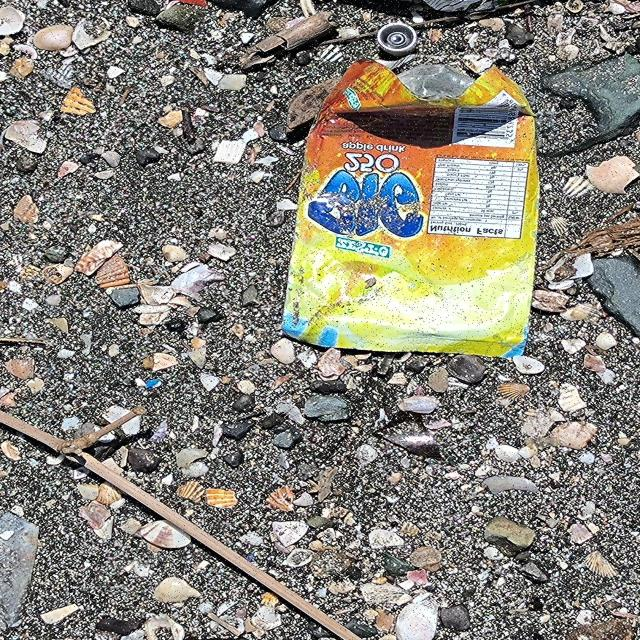plastic_waste: (283, 60, 542, 359)
